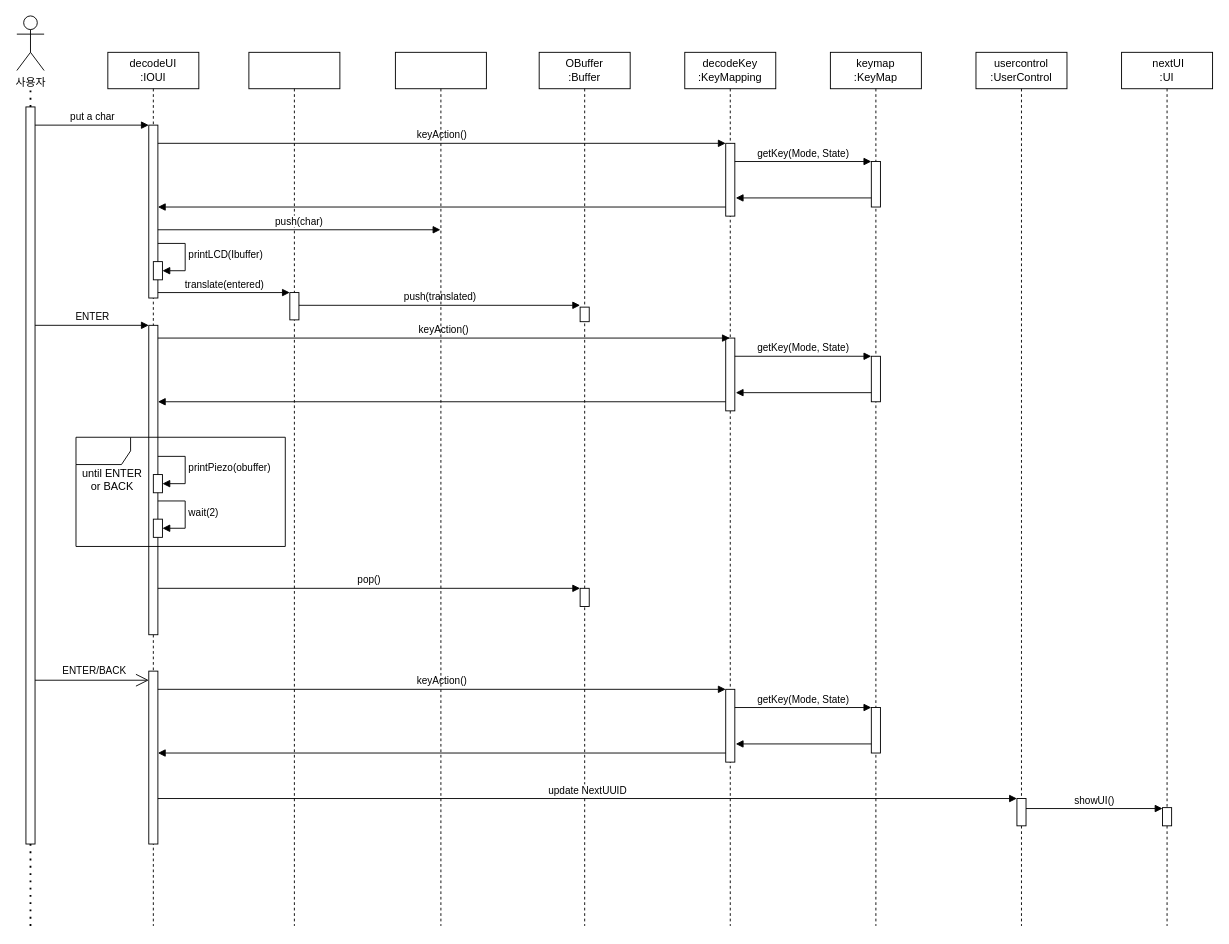
Image size: 1229x944. Some labels were removed from this diagram. The box of each missing label's shape, as (x1, y1, x2, y2) in pixels:
IBuffer :Buffer: (394, 51, 486, 926)
Loop: (75, 436, 285, 546)
Translator :Translator: (248, 51, 340, 926)
